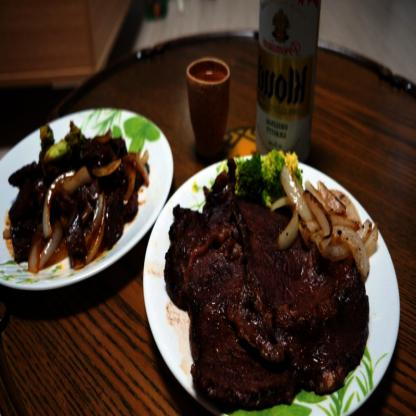Carne: (172, 186, 270, 403), (246, 229, 367, 373)
